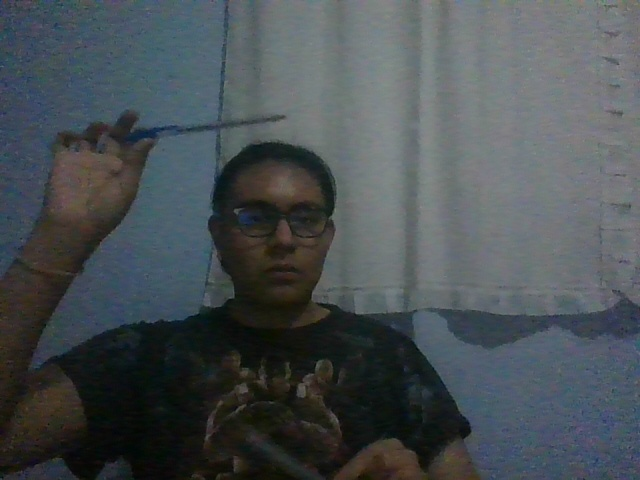pluma: (123, 114, 287, 142)
